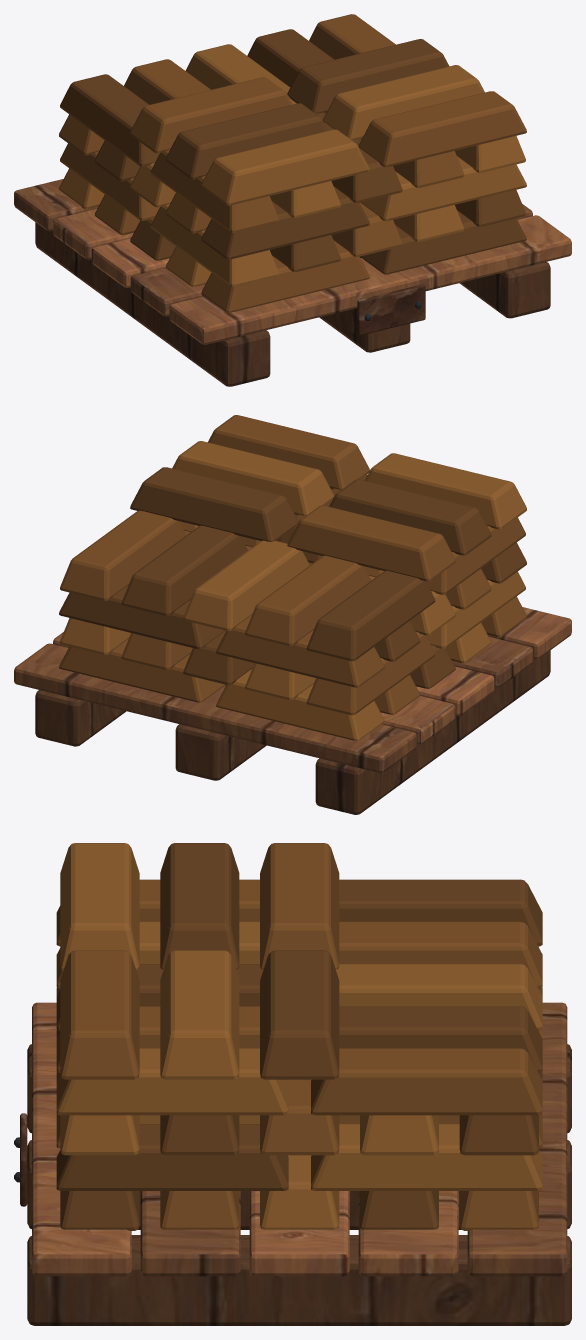
Rendered from cf_ingot_stack.glb.
3 views of the same model, one above another, from view 1: azimuth 30°, elevation 25°; view 2: azimuth 150°, elevation 25°; view 3: azimuth 270°, elevation 25° (orthographic). The views are drawn at different scales.
Parts seen in each view (by area): view 1: model; view 2: model; view 3: model.
Part boxes in pixels (x1,y1,x2,y2): model: [14, 14, 571, 386]; model: [14, 415, 571, 814]; model: [14, 843, 571, 1325].
Bounding box in the file's own units: 0.66 × 0.341 × 0.6147.
Materials: 9 (6 with a texture image).
